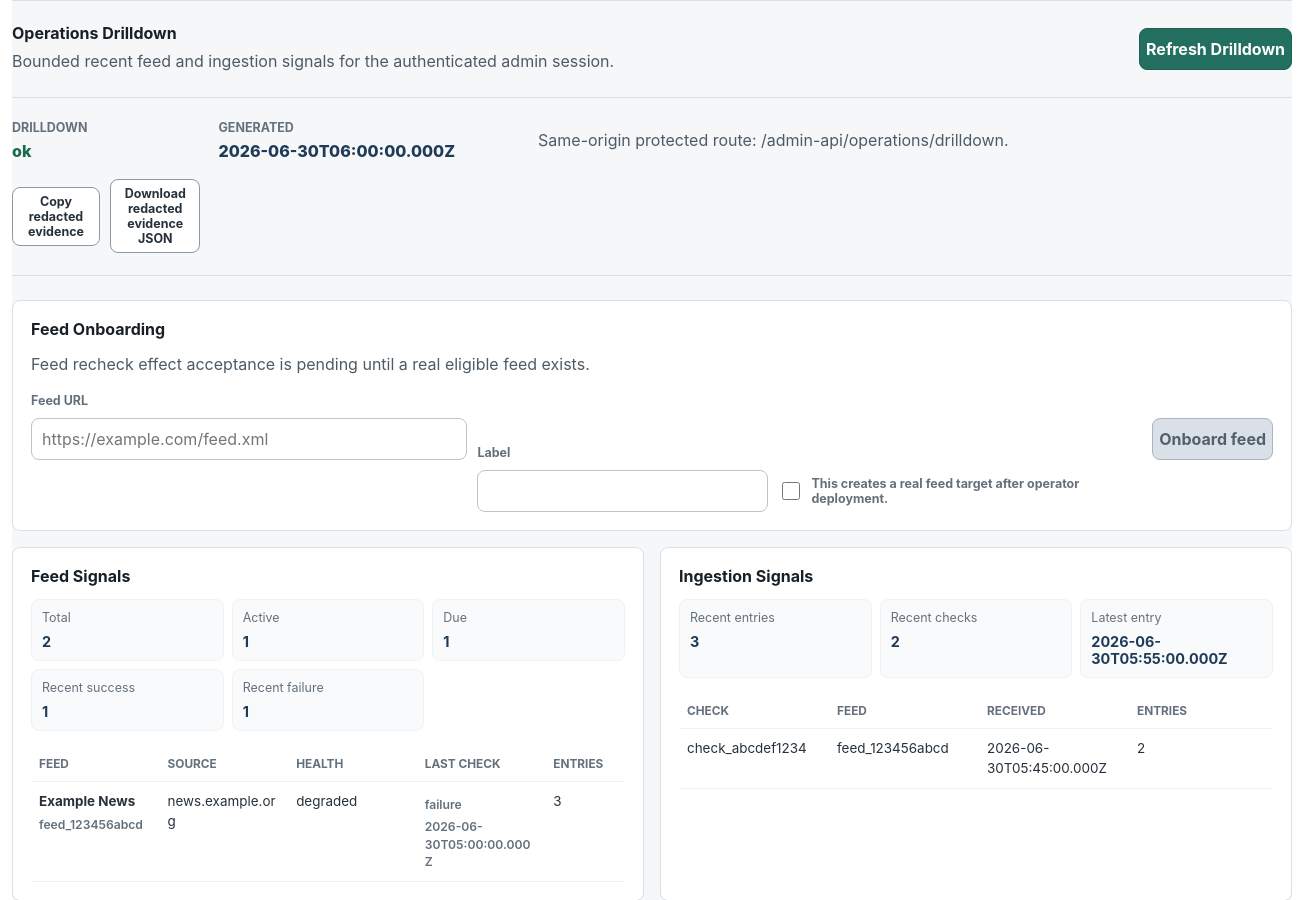
Test case: OperationsDrilldown › renders validated drilldown rows and supports manual refresh
Expected: the heading "Operations Drilldown" is shown, [12,23,177,43]
Expected: the text "news.example.org" is shown, [160,782,288,881]
Click the button "Refresh Drilldown" at [1216, 49], box [1139,28,1292,70]
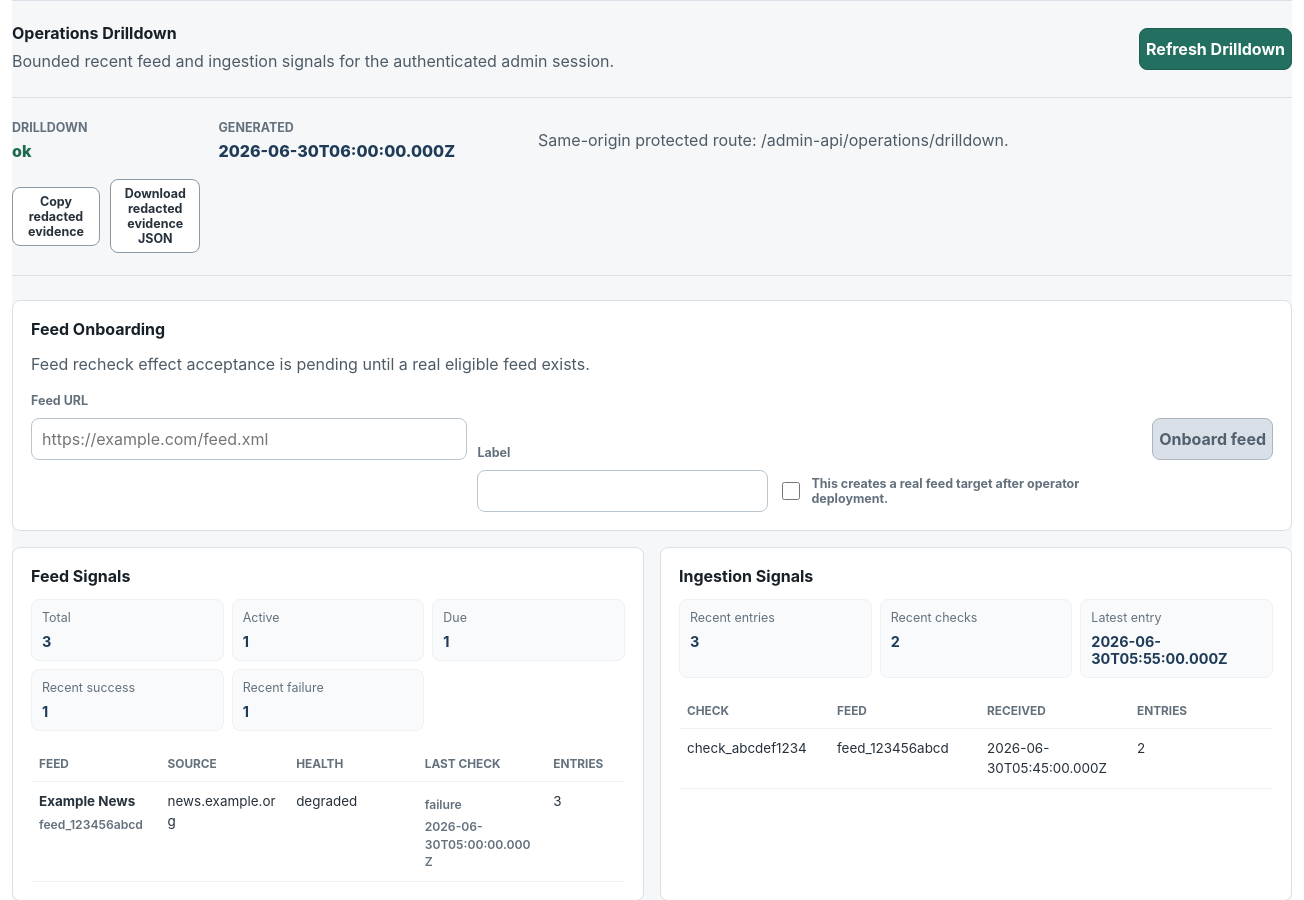
Result: the text "3" below "Total" is shown at [42,633,51,650]
